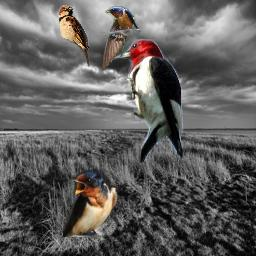Swallow: (63, 169, 119, 237), (101, 6, 141, 69), (58, 5, 90, 67)
Woodpecker: (111, 39, 185, 163)
